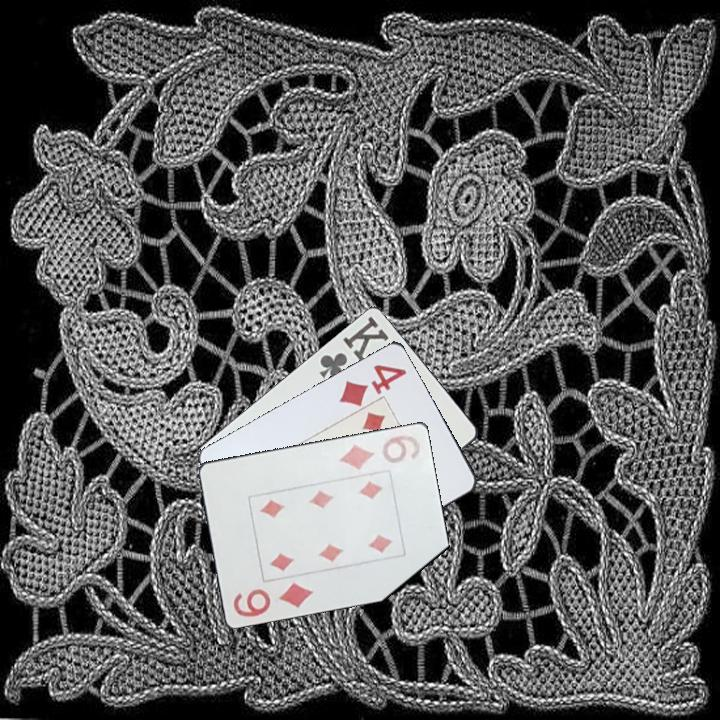4d: (335, 360, 410, 409)
6d: (336, 431, 425, 472), (230, 578, 316, 620)
Kc: (316, 312, 392, 383)
